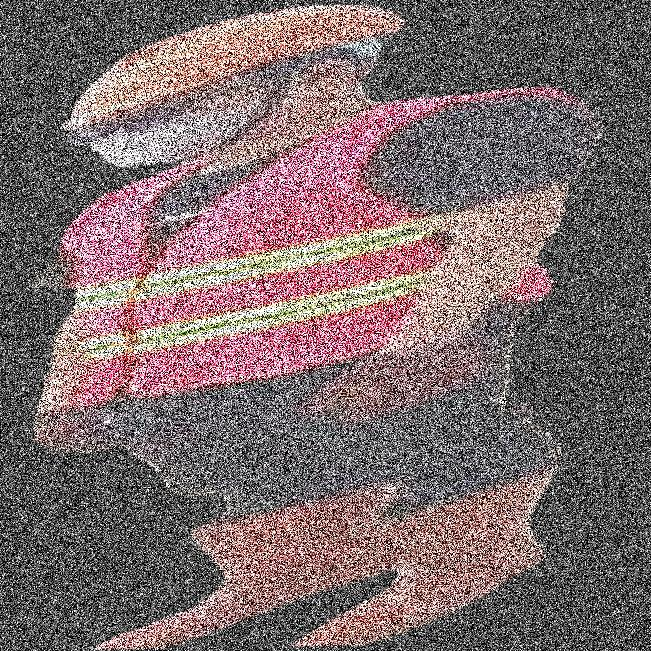Pessoa: (41, 0, 613, 650)
